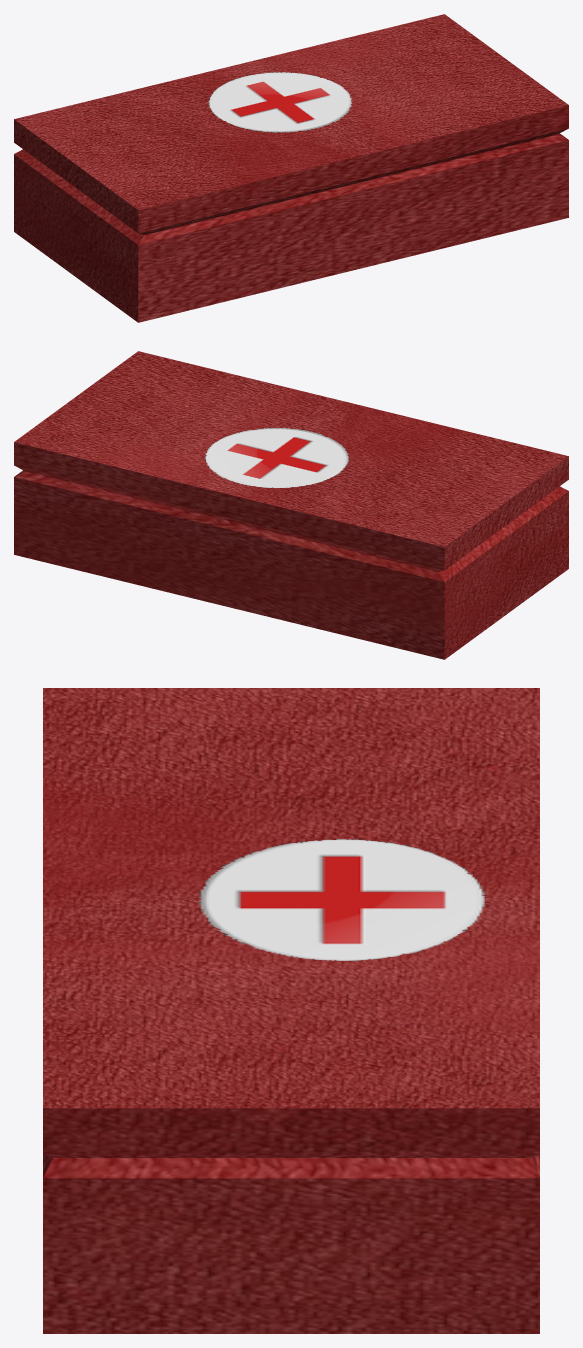
File: medkit.glb
3 views of the same model, one above another, from view 1: azimuth 30°, elevation 25°; view 2: azimuth 150°, elevation 25°; view 3: azimuth 270°, elevation 25° (orthographic). The views are drawn at different scales.
Parts seen in each view (by area): view 1: Cube; view 2: Cube; view 3: Cube.
Boxes of the visible parts, x1,y1,x2,y2 form: Cube: (14, 14, 568, 322); Cube: (14, 351, 568, 659); Cube: (43, 688, 539, 1333).
Bounding box in the file's own units: 8 × 2 × 4.
Materials: 1 (1 with a texture image).
